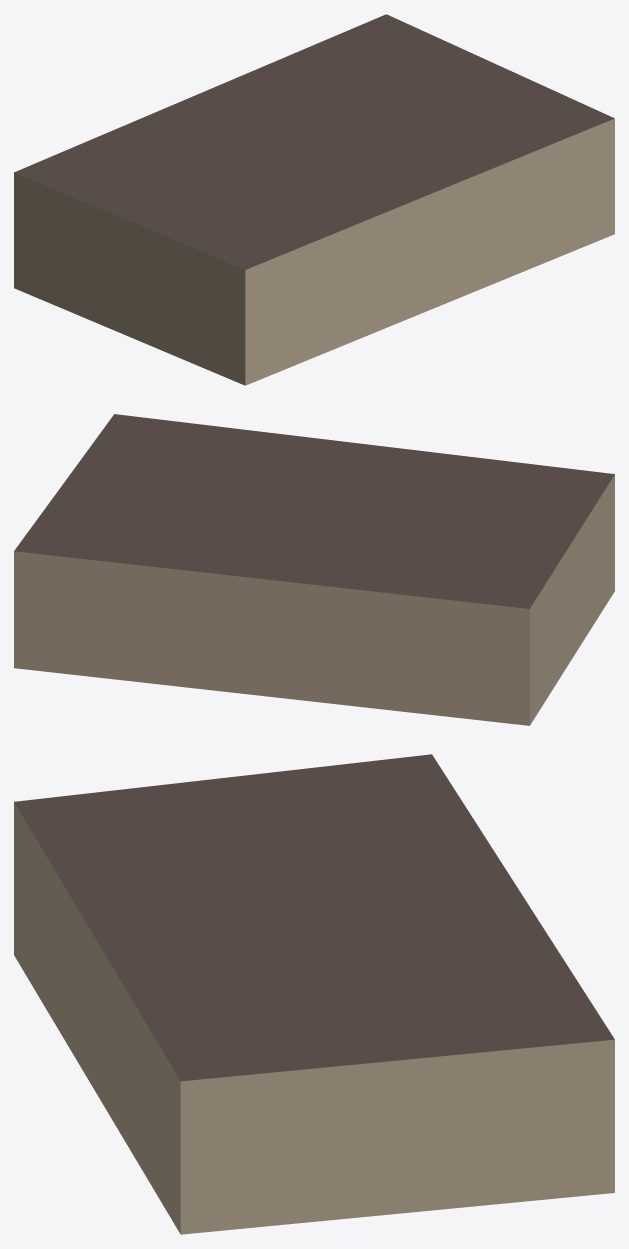
3 renders of one model, top to bottom at view 1: azimuth 30°, elevation 25°; view 2: azimuth 150°, elevation 25°; view 3: azimuth 270°, elevation 25°, orthographic. The views are drawn at different scales.
Visible parts, largest first — view 1: HP-w1512359750; view 2: HP-w1512359750; view 3: HP-w1512359750.
Part boxes in pixels (bbox=[...]): HP-w1512359750: bbox=[14, 14, 614, 385]; HP-w1512359750: bbox=[14, 414, 614, 725]; HP-w1512359750: bbox=[14, 754, 614, 1234].
Size of the model in its own units: 41.18 by 9 by 31.98.
